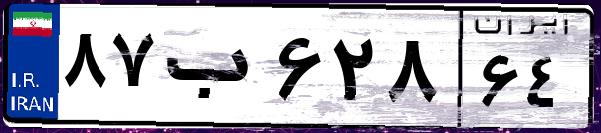2: (330, 28, 385, 110)
4: (525, 38, 570, 115)
6: (270, 28, 330, 110), (475, 38, 525, 113)
7: (110, 28, 158, 98)
8: (385, 28, 445, 110), (57, 26, 110, 100)
ب: (158, 20, 270, 120)
